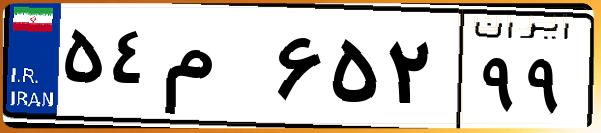2: (385, 28, 445, 110)
4: (110, 28, 158, 98)
5: (330, 28, 385, 110), (57, 26, 110, 100)
6: (270, 28, 330, 110)
9: (475, 38, 525, 113), (525, 38, 570, 115)
م: (158, 20, 270, 120)
